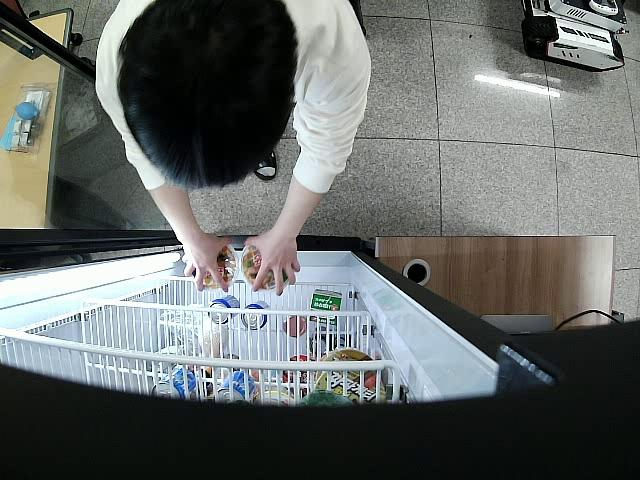00_hand: (245, 228, 301, 297), (181, 232, 232, 293)
09_yukGaeJang: (241, 243, 295, 293), (193, 241, 238, 291)
